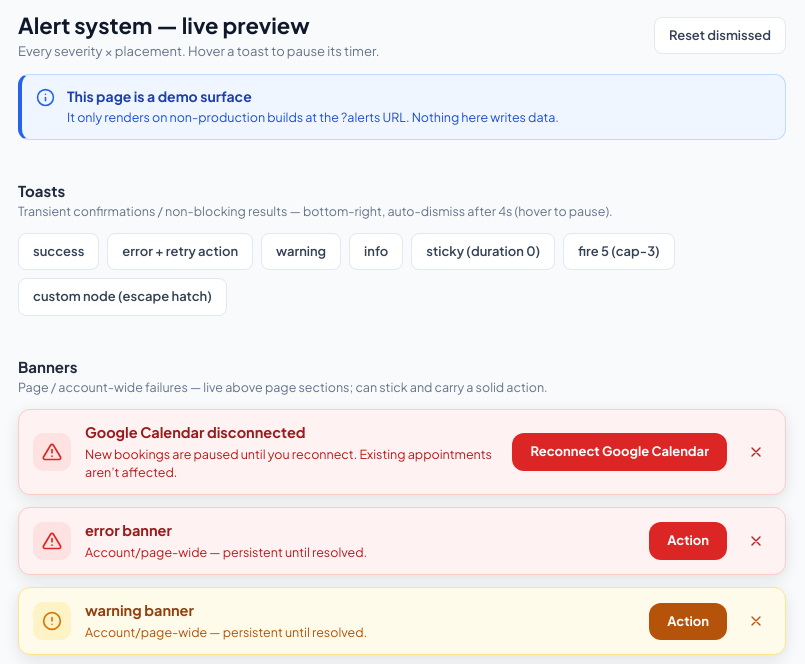
Test: AlertGallery (demo surface) › dismissing a banner removes it; Reset brings it back
This screenshot has width=805, height=664.
Click the button named "Dismiss" in the row of "Google Calendar disconnected".
click(756, 452)  # box [741,437,771,467]
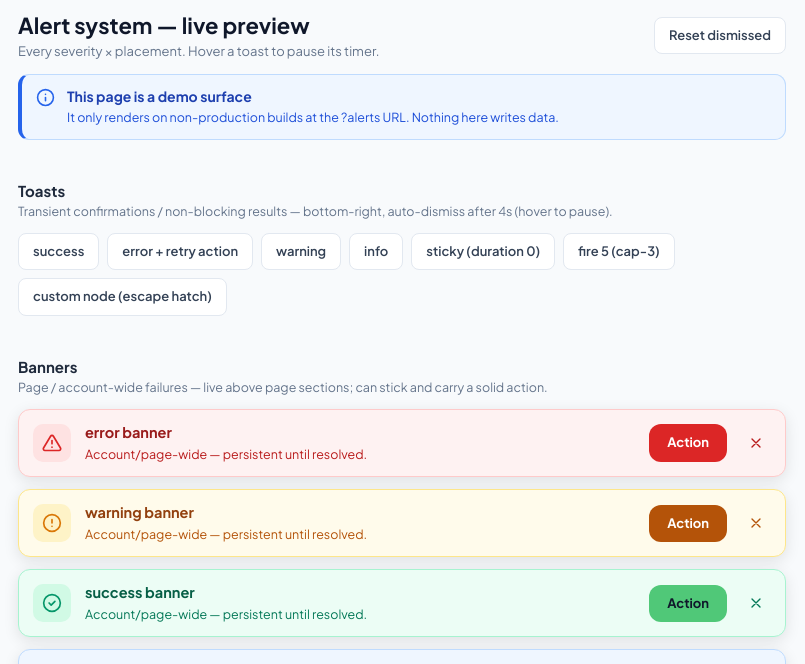
Now the text "Google Calendar disconnected" is gone
Click the button "Reset dismissed".
click(720, 35)  # box [654,16,786,54]
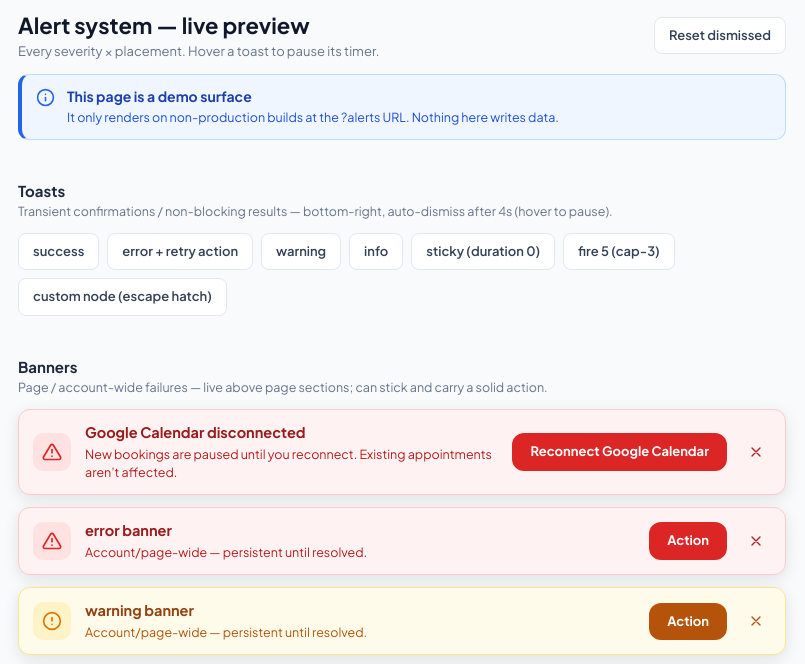
Now the text "Google Calendar disconnected" is shown, box [85,423,306,441]
